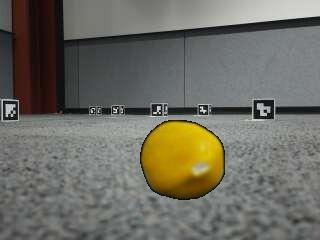lemon: (140, 121, 222, 199)
